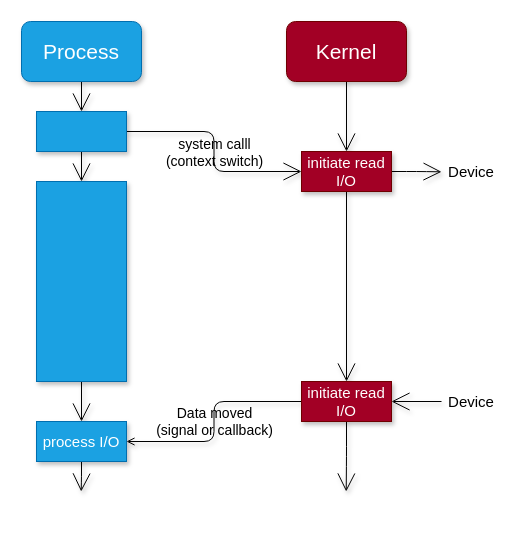
Some shapes in this 525 by 534 pixel diagram are drawn without their labels. Here are the shapes that lost their labels. From the top down, the centre of each, then its label:
the point at 82,132: aio_read()
the point at 82,282: other stuff
